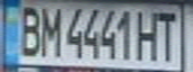1: (115, 7, 136, 61)
4: (81, 4, 103, 60), (63, 3, 84, 59), (100, 6, 121, 60)
B: (12, 1, 45, 57)
H: (133, 7, 163, 62)
M: (36, 2, 63, 58)
T: (154, 7, 181, 62)
